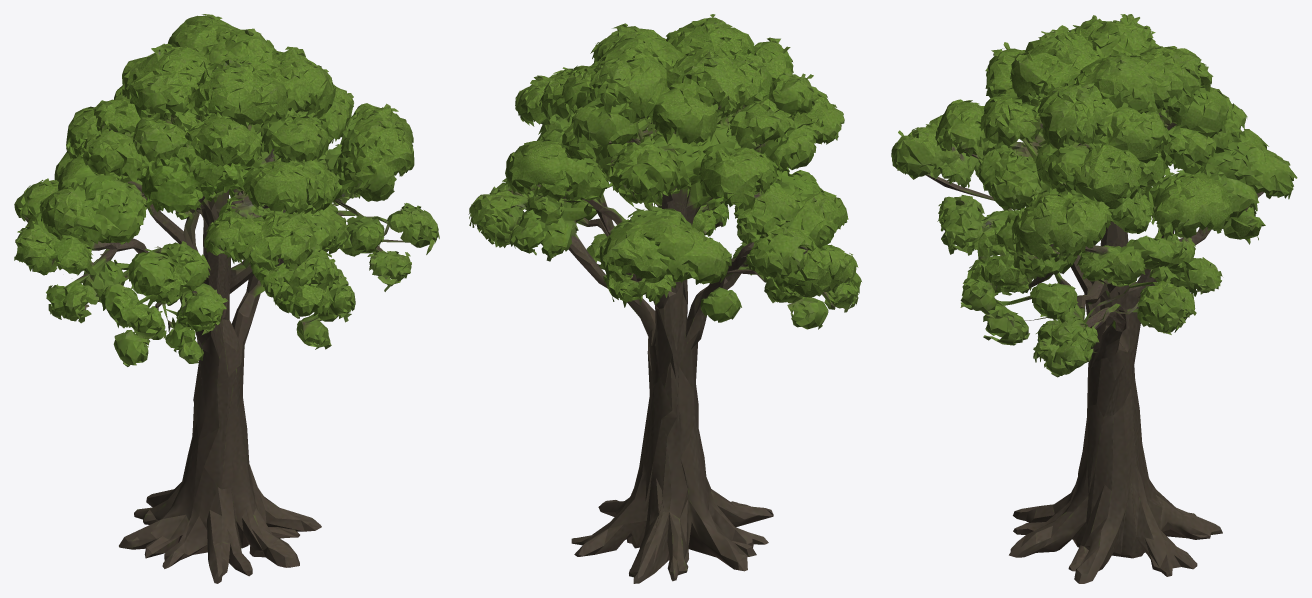
Rendered from tree_broadleaf.glb.
The picture shows the model from 3 angles, left to right: view 1: azimuth 30°, elevation 25°; view 2: azimuth 150°, elevation 25°; view 3: azimuth 270°, elevation 25°; orthographic projection.
Size of the model in its own units: 1.54 by 1.89 by 1.38.
Materials: 1 (1 with a texture image).
